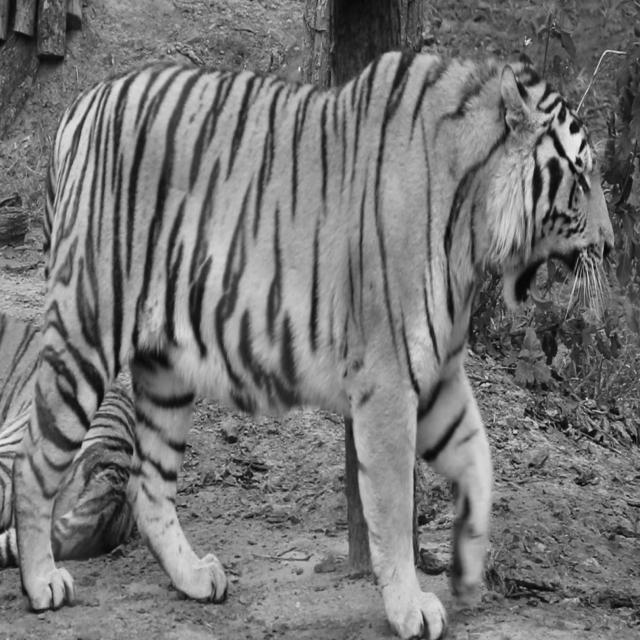TIGER: (38, 38, 619, 586)
